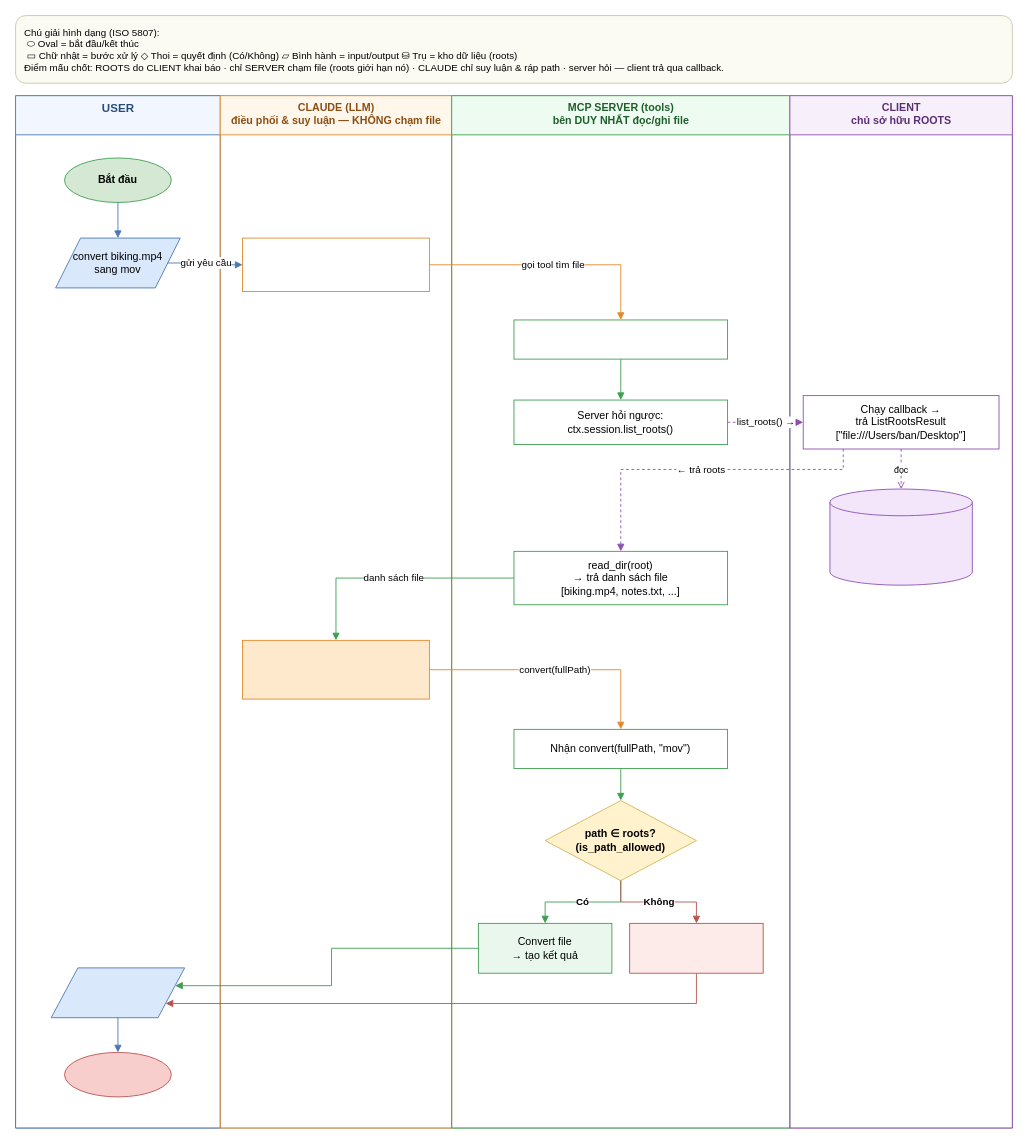
Image size: 1028x1144. Some labels were removed from this diagram. The shapes that lost their labels are listed below. From the top down, each one's centre as x and y in pixels, then its label:
(x=335, y=264): Đọc yêu cầu → chỉ có tên file, thiếu full path
(x=620, y=339): Tool tìm-file được gọi
(x=900, y=536): ROOTS đã khai báo (thư mục được phép — giới hạn của SERVER)
(x=335, y=669): Suy luận: chọn "biking.mp4" → ráp full path /Users/ban/Desktop/biking.mp4
(x=696, y=947): Trả error (ngoài phạm vi)
(x=117, y=992): Kết quả / thông báo hiển thị cho user
(x=117, y=1074): Kết thúc
